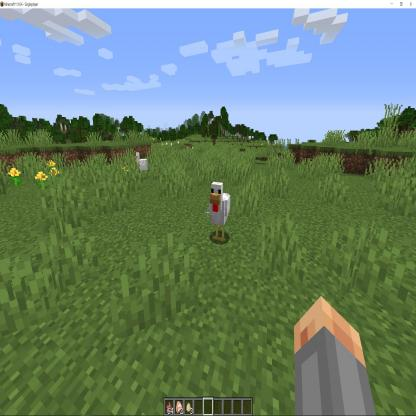minecraft-pigs: (206, 179, 233, 248), (133, 149, 151, 181)
